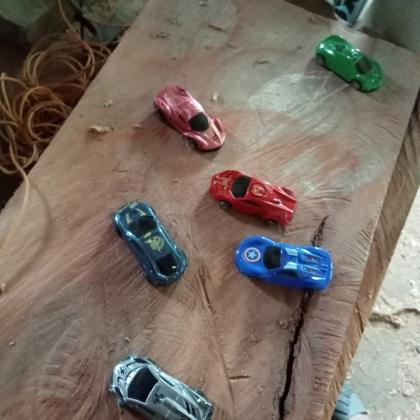Car: (108, 353, 214, 420), (113, 198, 188, 288), (209, 166, 300, 229), (235, 235, 335, 292), (152, 83, 227, 152), (314, 32, 385, 94)
